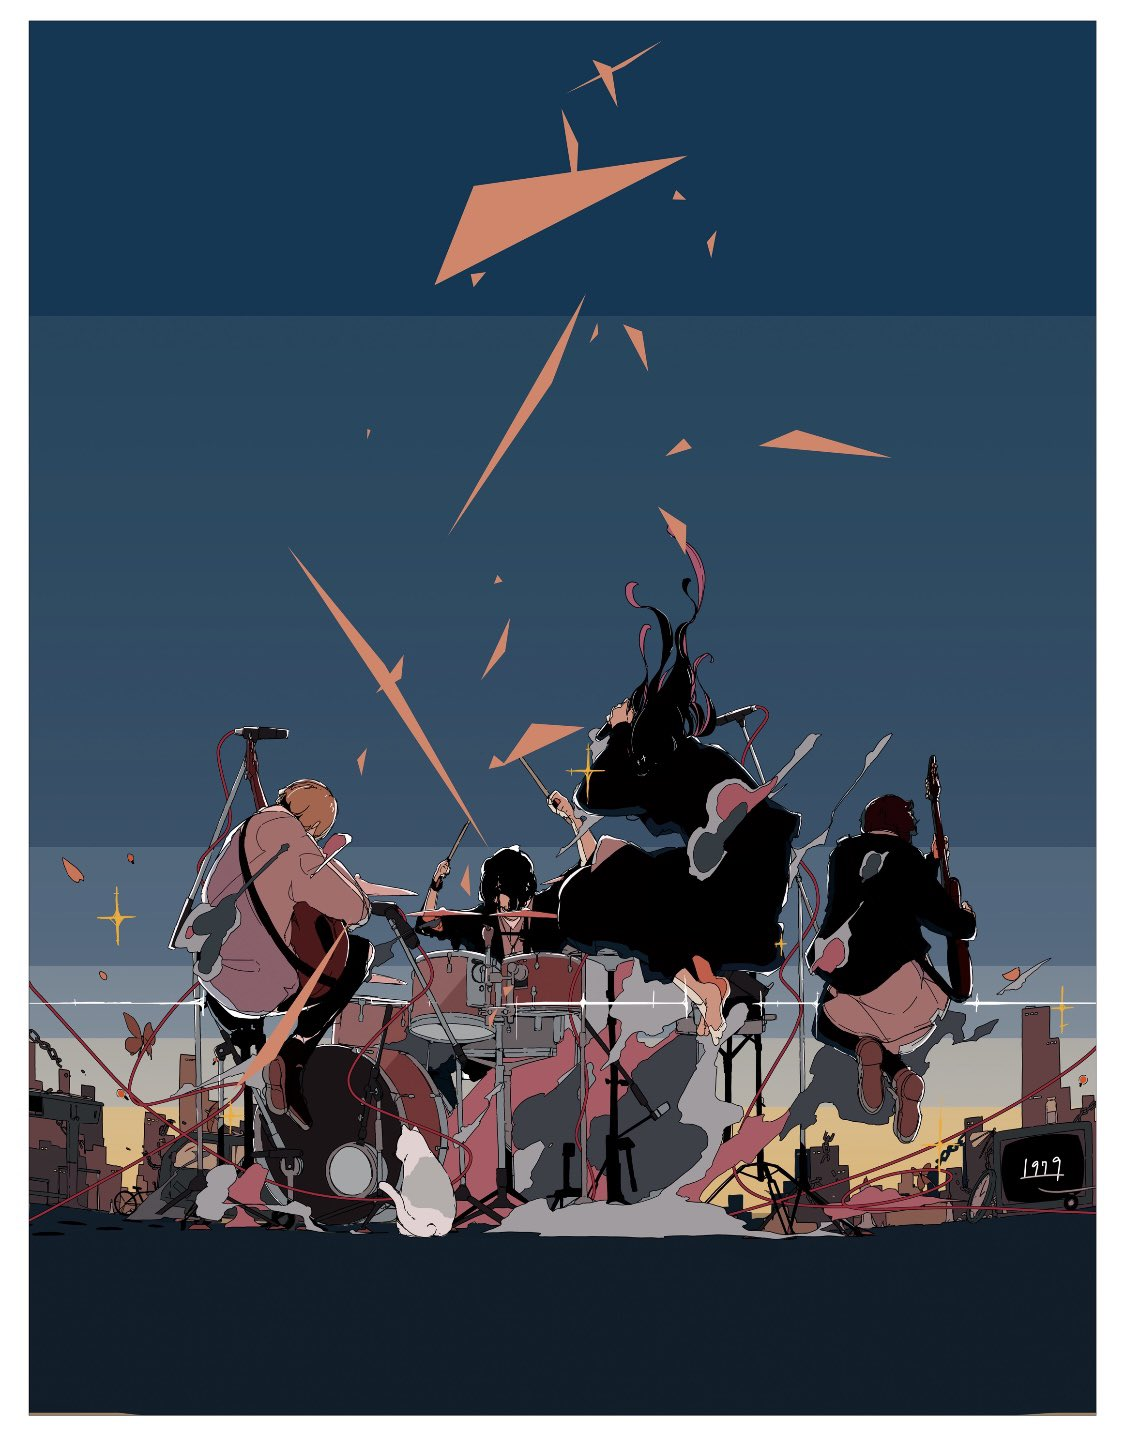p: (501, 624, 808, 1151), (173, 709, 409, 1221), (803, 777, 1001, 1151)
